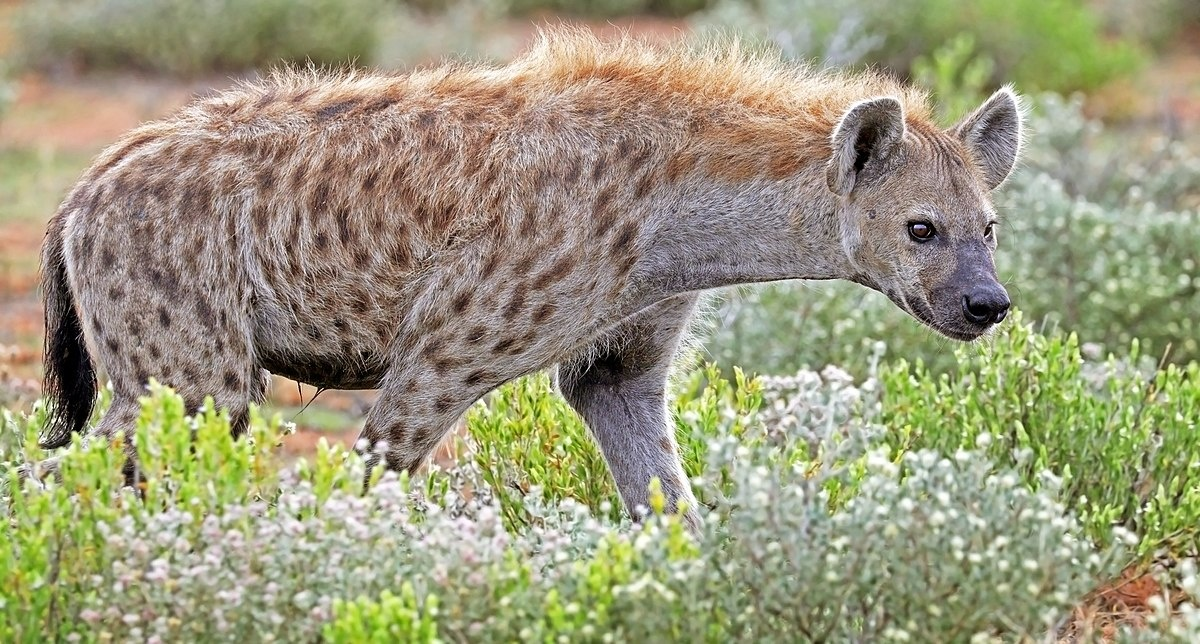hyna: (0, 13, 1038, 572)
